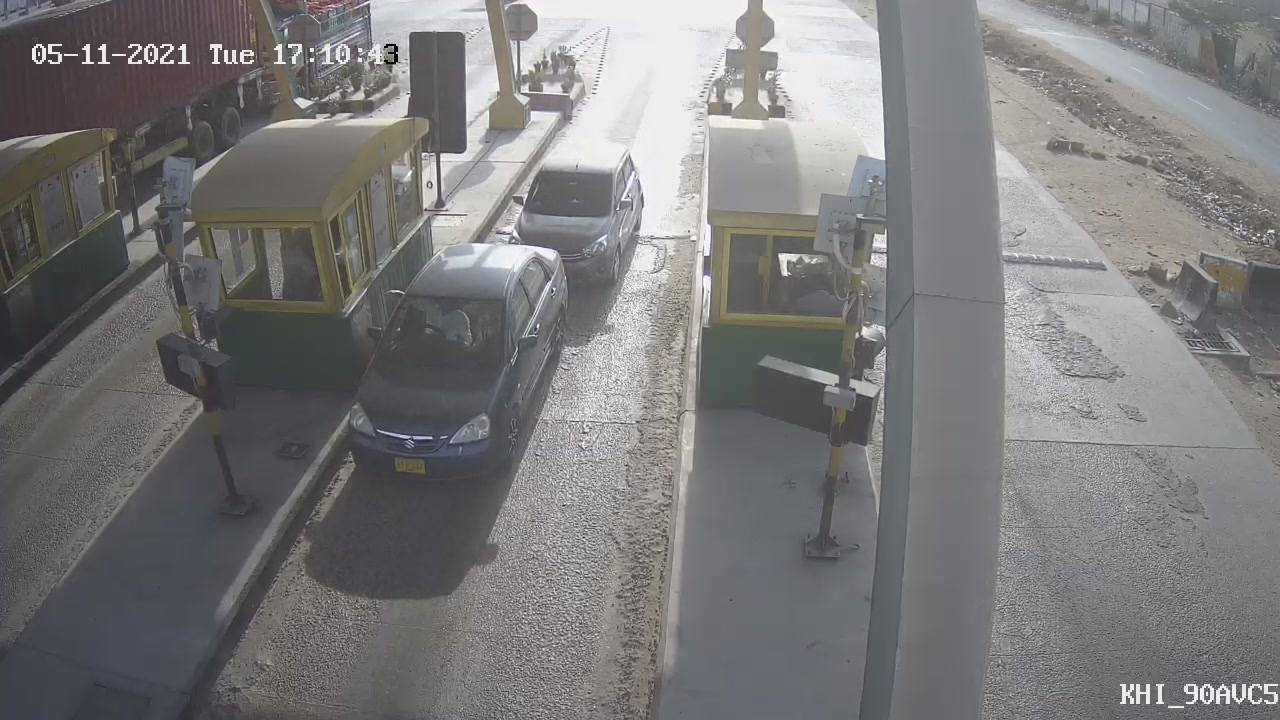F1: (329, 225, 589, 500), (490, 134, 659, 305)
